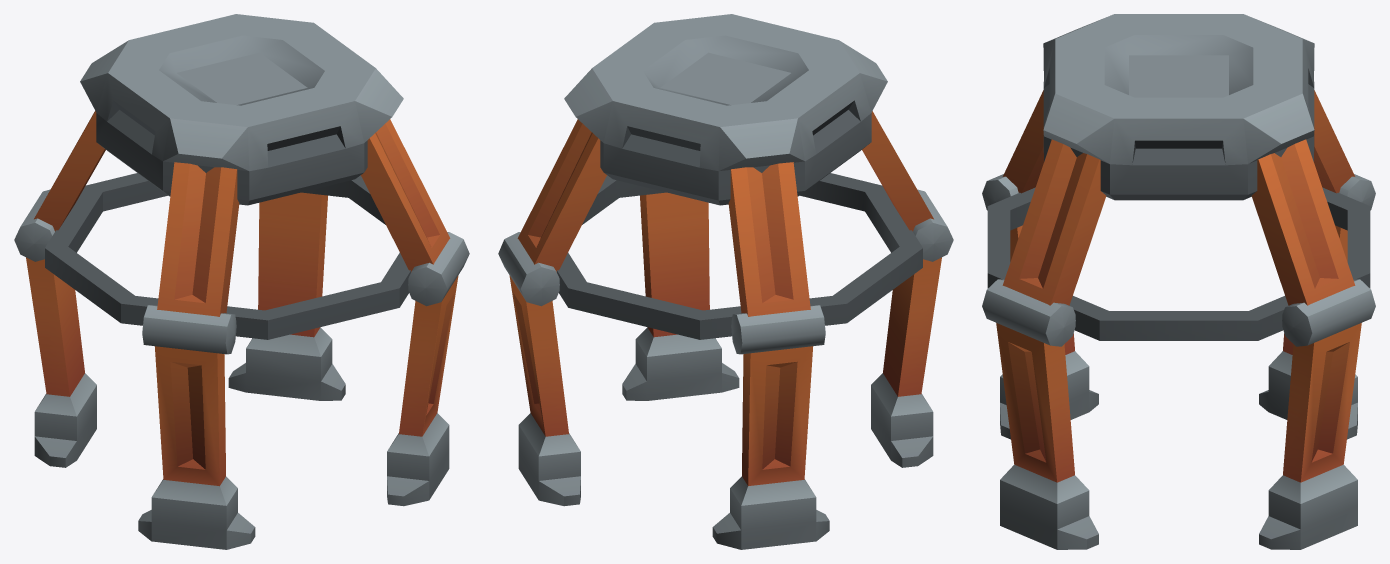
The model's file is structure_tall.glb.
The picture shows the model from 3 angles, left to right: view 1: azimuth 30°, elevation 25°; view 2: azimuth 150°, elevation 25°; view 3: azimuth 270°, elevation 25°; orthographic projection. The views are drawn at different scales.
Parts seen in each view (by area): view 1: structure_tall; view 2: structure_tall; view 3: structure_tall.
Part boxes in pixels (x1,y1,x2,y2): structure_tall: [14, 14, 469, 549]; structure_tall: [498, 14, 953, 549]; structure_tall: [982, 14, 1375, 549].
Bounding box in the file's own units: 5.25 × 6 × 5.25.
Materials: 1 (1 with a texture image).
